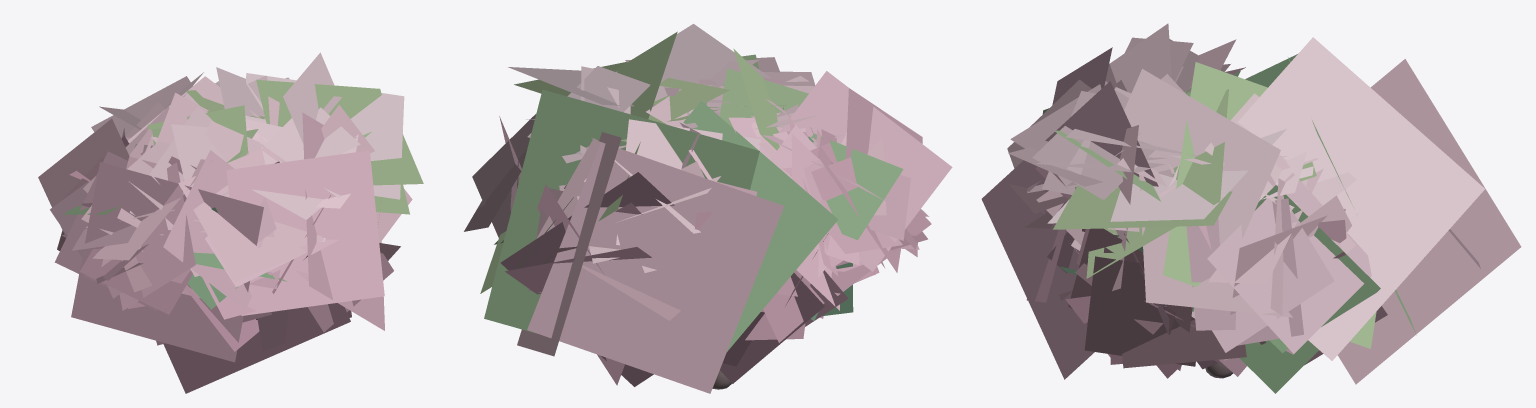
Rendered from wild_cherry_v0.glb.
3 renders of one model, left to right at view 1: azimuth 30°, elevation 25°; view 2: azimuth 150°, elevation 25°; view 3: azimuth 270°, elevation 25°, orthographic. The views are drawn at different scales.
Parts seen in each view (by area): view 1: far, near; view 2: far, near; view 3: far, near.
Part boxes in pixels (left/top/right/bottom): far: left=69, top=52, right=423, bottom=393; near: left=38, top=67, right=400, bottom=351; far: left=480, top=31, right=952, bottom=393; near: left=464, top=24, right=931, bottom=389; far: left=981, top=37, right=1521, bottom=384; near: left=1007, top=23, right=1424, bottom=393.
Size of the model in its own units: 11.54 by 9.76 by 13.06.
